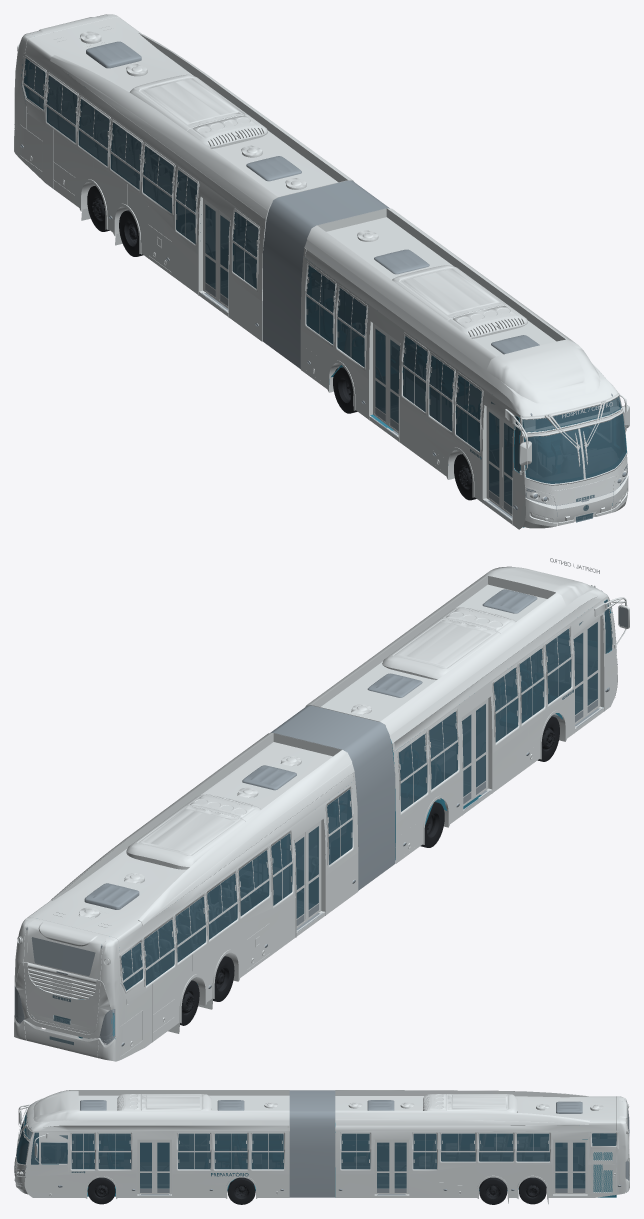
Rendered from VEH_Bus_BRT_20261006.glb.
3 views of the same model, one above another, from view 1: azimuth 30°, elevation 25°; view 2: azimuth 150°, elevation 25°; view 3: azimuth 270°, elevation 25° (orthographic). The views are drawn at different scales.
Parts seen in each view (by area): view 1: VEH_Bus_BRT_20261006_model_21.obj, VEH_Bus_BRT_20261006_model_30.obj, VEH_Bus_BRT_20261006_model_15.obj, VEH_Bus_BRT_20261006_model_13.obj, VEH_Bus_BRT_20261006_model_22.obj, VEH_Bus_BRT_20261006_model_8.obj, VEH_Bus_BRT_20261006_model_11.obj; view 2: VEH_Bus_BRT_20261006_model_21.obj, VEH_Bus_BRT_20261006_model_15.obj, VEH_Bus_BRT_20261006_model_30.obj, VEH_Bus_BRT_20261006_model_13.obj, VEH_Bus_BRT_20261006_model_22.obj, VEH_Bus_BRT_20261006_model_12.obj, VEH_Bus_BRT_20261006_model_4.obj, VEH_Bus_BRT_20261006_model_11.obj, VEH_Bus_BRT_20261006_model_8.obj; view 3: VEH_Bus_BRT_20261006_model_21.obj, VEH_Bus_BRT_20261006_model_15.obj, VEH_Bus_BRT_20261006_model_30.obj, VEH_Bus_BRT_20261006_model_13.obj, VEH_Bus_BRT_20261006_model_22.obj, VEH_Bus_BRT_20261006_model_26.obj, VEH_Bus_BRT_20261006_model_11.obj, VEH_Bus_BRT_20261006_model_8.obj, VEH_Bus_BRT_20261006_model_10.obj, VEH_Bus_BRT_20261006_model_9.obj.
Boxes of the visible parts, x1,y1,x2,y2 form: VEH_Bus_BRT_20261006_model_21.obj: (14,14,628,529); VEH_Bus_BRT_20261006_model_30.obj: (23,58,626,506); VEH_Bus_BRT_20261006_model_15.obj: (17,15,629,529); VEH_Bus_BRT_20261006_model_13.obj: (262,180,389,368); VEH_Bus_BRT_20261006_model_22.obj: (86,41,539,513); VEH_Bus_BRT_20261006_model_8.obj: (333,367,357,413); VEH_Bus_BRT_20261006_model_11.obj: (119,210,143,256); VEH_Bus_BRT_20261006_model_21.obj: (14,566,617,1061); VEH_Bus_BRT_20261006_model_15.obj: (17,576,629,1059); VEH_Bus_BRT_20261006_model_30.obj: (121,600,611,990); VEH_Bus_BRT_20261006_model_13.obj: (270,607,628,890); VEH_Bus_BRT_20261006_model_22.obj: (84,589,597,925); VEH_Bus_BRT_20261006_model_12.obj: (31,937,95,976); VEH_Bus_BRT_20261006_model_4.obj: (14,986,115,1044); VEH_Bus_BRT_20261006_model_11.obj: (213,956,234,1001); VEH_Bus_BRT_20261006_model_8.obj: (420,802,444,847); VEH_Bus_BRT_20261006_model_21.obj: (14,1090,629,1198); VEH_Bus_BRT_20261006_model_15.obj: (14,1090,629,1204); VEH_Bus_BRT_20261006_model_30.obj: (16,1112,616,1188); VEH_Bus_BRT_20261006_model_13.obj: (21,1090,335,1197); VEH_Bus_BRT_20261006_model_22.obj: (80,1100,585,1192); VEH_Bus_BRT_20261006_model_26.obj: (24,1115,616,1197); VEH_Bus_BRT_20261006_model_11.obj: (479,1177,507,1204); VEH_Bus_BRT_20261006_model_8.obj: (227,1177,255,1204); VEH_Bus_BRT_20261006_model_10.obj: (519,1177,546,1204); VEH_Bus_BRT_20261006_model_9.obj: (87,1177,115,1204).
Size of the model in its own units: 3.16 by 3.78 by 23.21.
